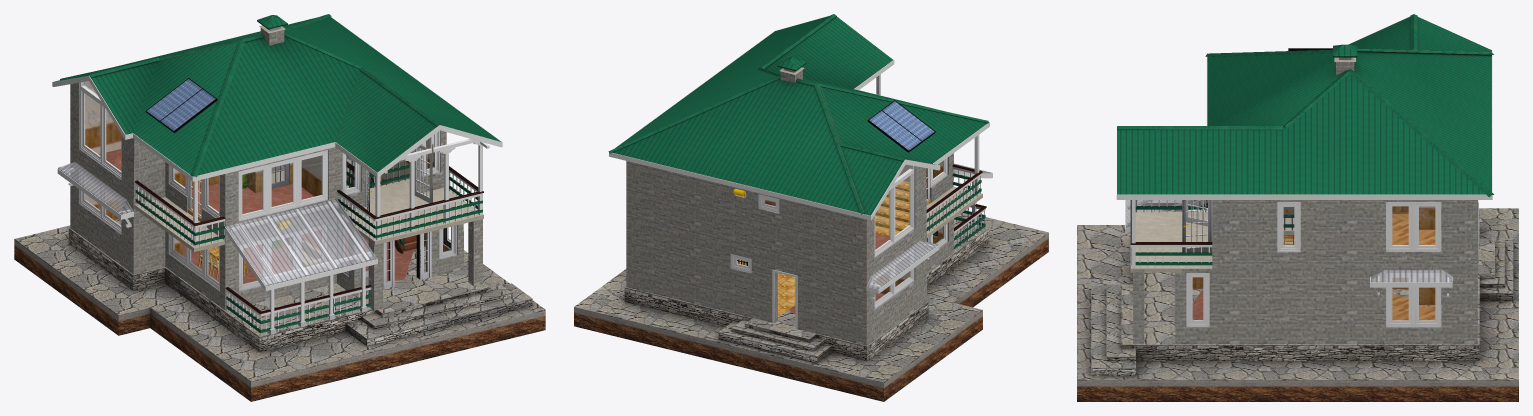
Rendered from residence-wsg.glb.
3 views of the same model, side by side, from view 1: azimuth 30°, elevation 25°; view 2: azimuth 150°, elevation 25°; view 3: azimuth 270°, elevation 25° (orthographic). The views are drawn at different scales.
Parts seen in each view (by area): view 1: Object_7, Object_8, Object_11, Object_14, Object_9, Object_10, Object_15; view 2: Object_7, Object_11, Object_8, Object_14, Object_15, Object_9; view 3: Object_7, Object_11, Object_8, Object_14.
Part boxes in pixels (x1,y1,x2,y2): Object_7: (55, 14, 500, 333); Object_8: (14, 219, 545, 401); Object_11: (70, 25, 483, 310); Object_14: (52, 16, 502, 334); Object_9: (145, 78, 217, 132); Object_10: (200, 240, 320, 279); Object_15: (187, 208, 248, 280); Object_7: (608, 14, 991, 288); Object_11: (626, 67, 982, 345); Object_8: (574, 213, 1048, 401); Object_14: (609, 16, 992, 328); Object_15: (737, 180, 930, 317); Object_9: (867, 100, 935, 152); Object_7: (1117, 14, 1493, 282); Object_11: (1130, 57, 1477, 343); Object_8: (1077, 208, 1518, 401); Object_14: (1116, 16, 1492, 326).
Size of the model in its own units: 13.37 by 10.16 by 14.57.
15 materials, 10 textured.
